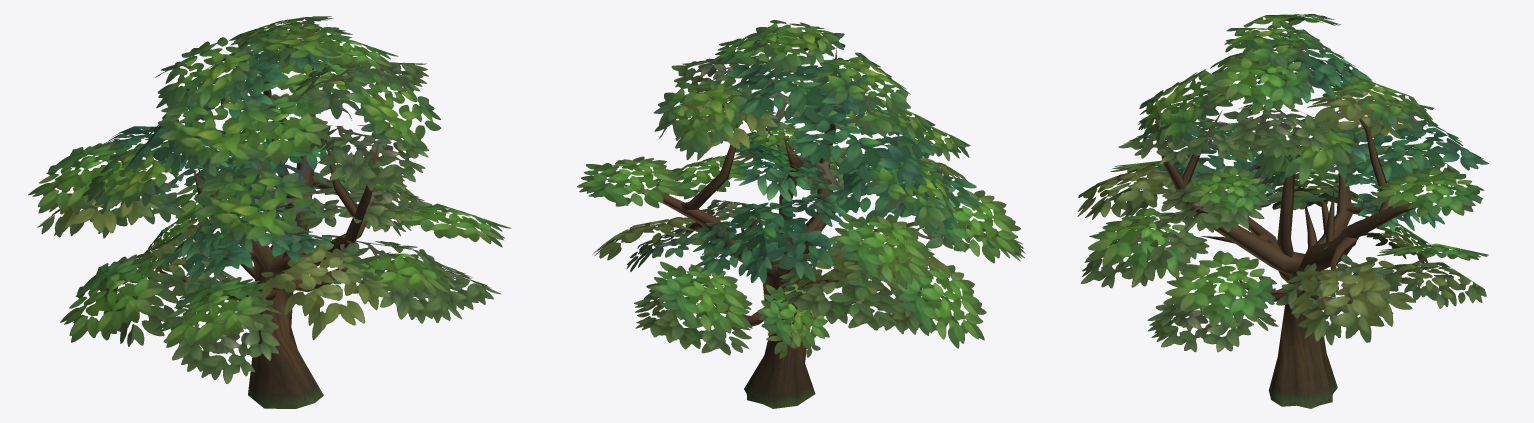
The model's file is zhucheng_shu.FBX.
3 views of the same model, side by side, from view 1: azimuth 30°, elevation 25°; view 2: azimuth 150°, elevation 25°; view 3: azimuth 270°, elevation 25° (orthographic). The views are drawn at different scales.
Visible parts, largest first — view 1: zhucheng_shu, objMesh_13; view 2: zhucheng_shu, objMesh_13; view 3: zhucheng_shu, objMesh_13.
Boxes of the visible parts, x1,y1,x2,y2 form: zhucheng_shu: [28, 16, 511, 383]; objMesh_13: [155, 63, 390, 408]; zhucheng_shu: [577, 20, 1025, 358]; objMesh_13: [616, 47, 897, 408]; zhucheng_shu: [1077, 14, 1488, 352]; objMesh_13: [1153, 105, 1428, 408].
Size of the model in its own units: 578 by 555 by 477.
